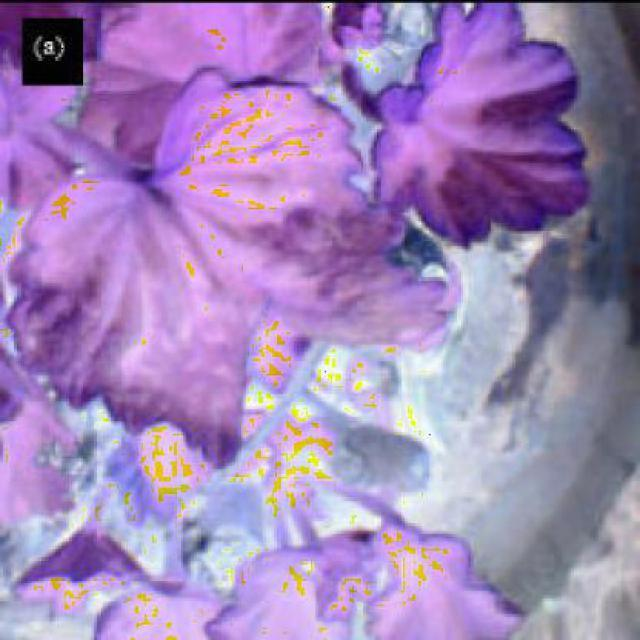Tomato yellow virus leaf: (17, 72, 468, 463), (356, 12, 596, 243)
